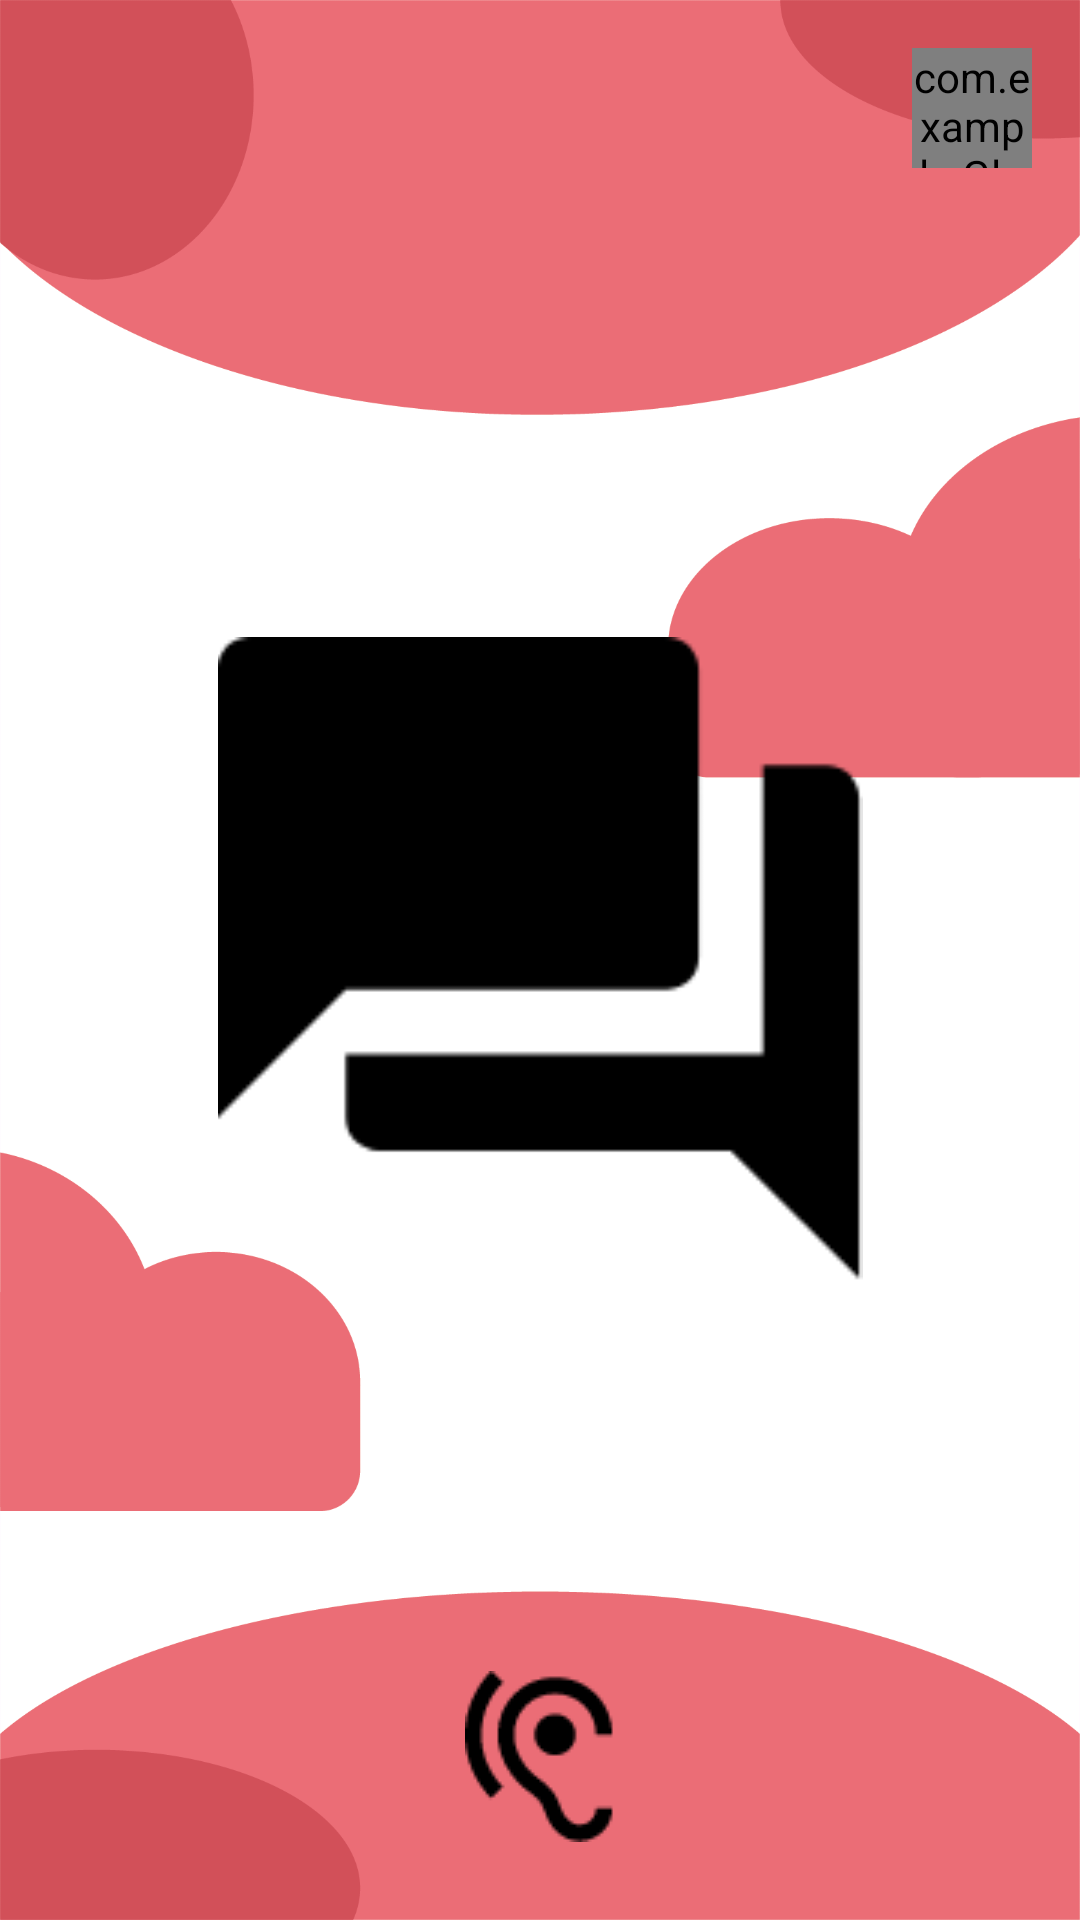

Icons on this 1080 x 1920 Android screen, each with the point to tap as (x,y):
pictogram oortje: (539,1756)
